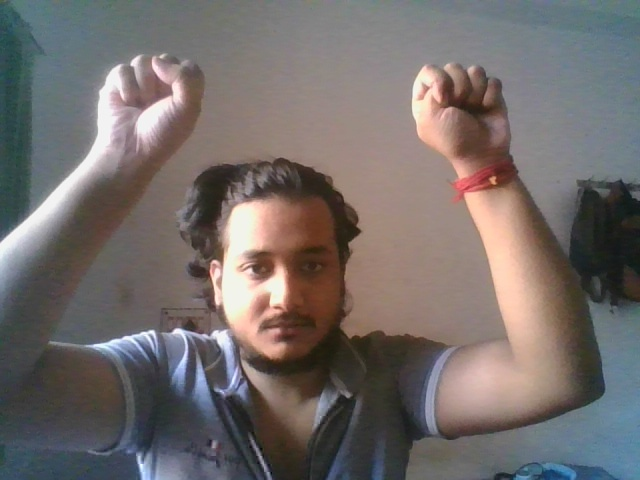Close: (95, 51, 207, 163), (409, 60, 513, 156)
